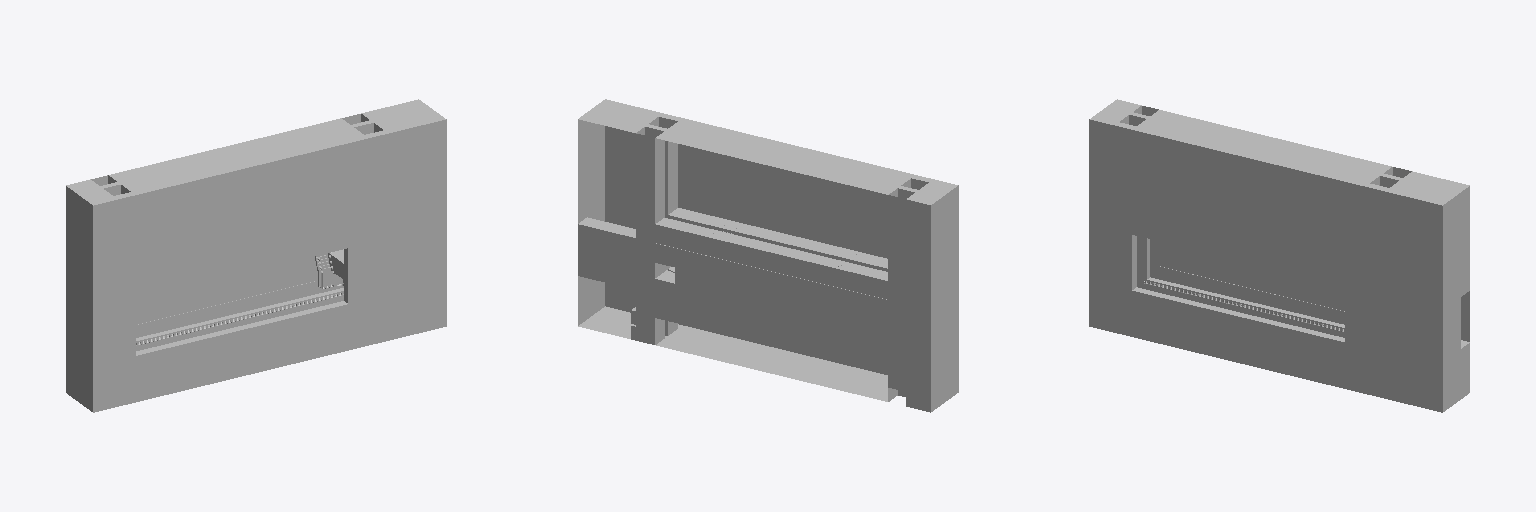
Rendered from campus3d.obj.
The picture shows the model from 3 angles: view 1: azimuth 30°, elevation 25°; view 2: azimuth 150°, elevation 25°; view 3: azimuth 330°, elevation 25°; orthographic projection.
Visible parts, largest first — view 1: Mesh2 Model; view 2: Mesh2 Model; view 3: Mesh2 Model.
Part boxes in pixels (bbox=[...]): Mesh2 Model: bbox=[66, 99, 446, 412]; Mesh2 Model: bbox=[578, 99, 958, 412]; Mesh2 Model: bbox=[1089, 99, 1469, 412].
Bounding box in the file's own units: 64.66 × 36.24 × 8.77.